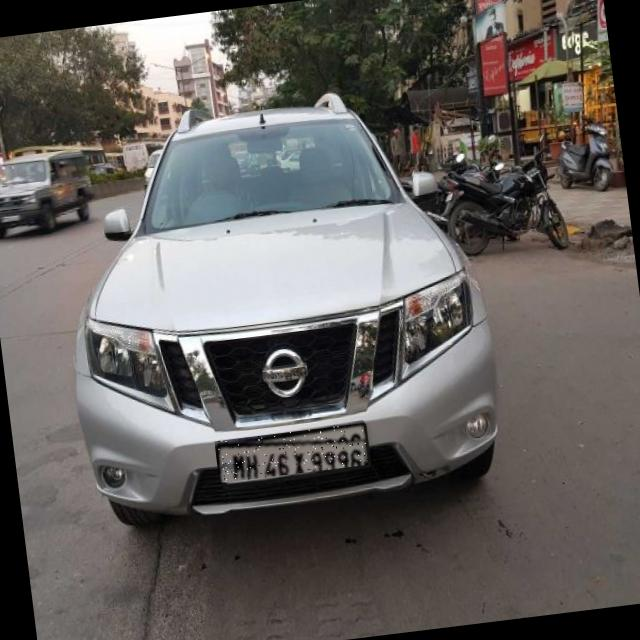Plate: (215, 424, 369, 484)
